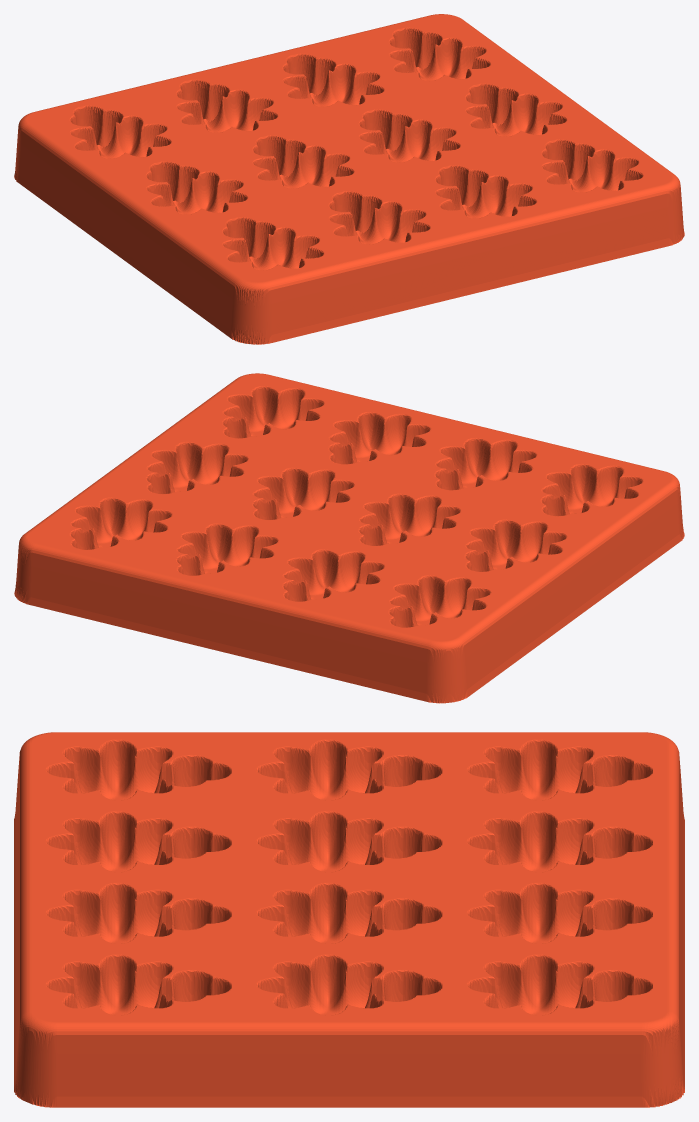
File: mold.glb
The picture shows the model from 3 angles, top to bottom: view 1: azimuth 30°, elevation 25°; view 2: azimuth 150°, elevation 25°; view 3: azimuth 270°, elevation 25°; orthographic projection. The views are drawn at different scales.
Visible parts, largest first — view 1: geometry_0; view 2: geometry_0; view 3: geometry_0.
Part boxes in pixels (<box>): geometry_0: <box>14,14,684,344</box>; geometry_0: <box>14,373,684,703</box>; geometry_0: <box>14,732,684,1107</box>.
Size of the model in its own units: 0.1508 by 0.0182 by 0.141.
